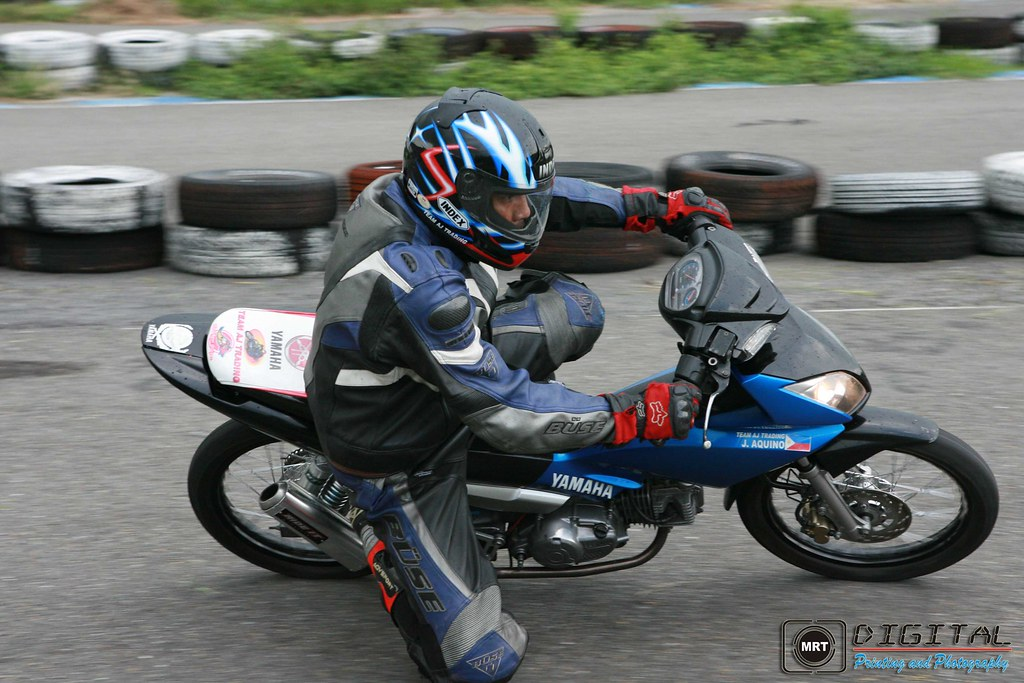helmet: (397, 95, 563, 266)
